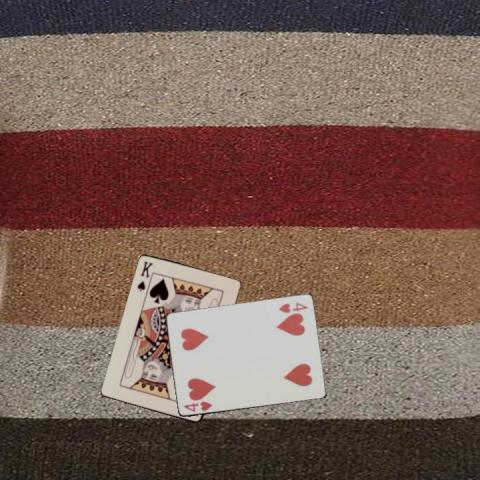4h: (181, 398, 213, 413), (275, 300, 309, 314)
Ks: (135, 259, 154, 293)
